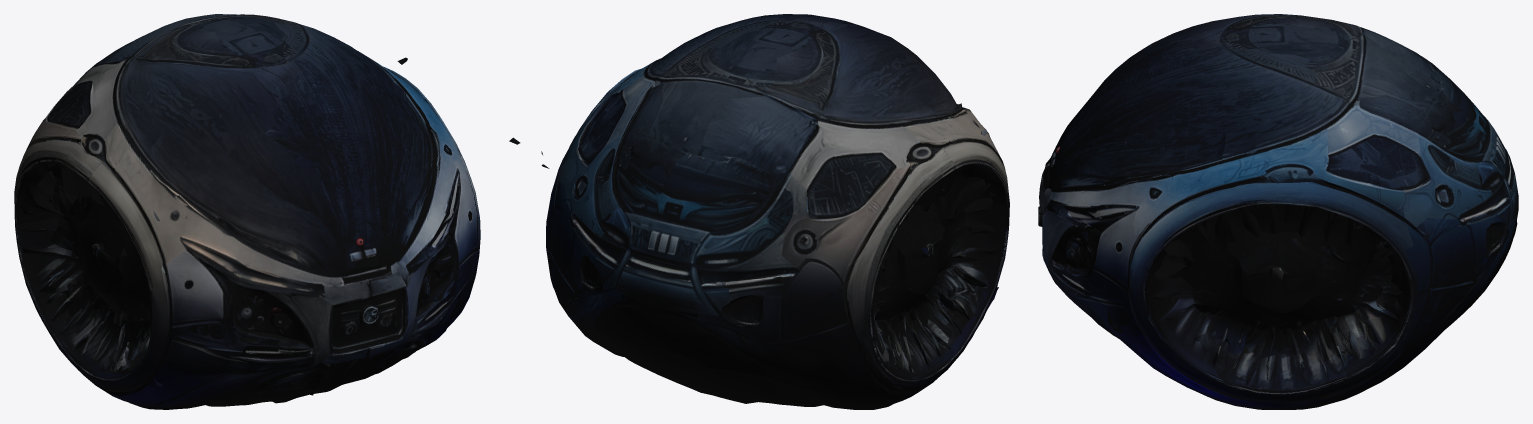
The model's file is Orbvortex.glb.
3 renders of one model, left to right at view 1: azimuth 30°, elevation 25°; view 2: azimuth 150°, elevation 25°; view 3: azimuth 270°, elevation 25°, orthographic. The views are drawn at different scales.
Parts seen in each view (by area): view 1: geometry_0; view 2: geometry_0; view 3: geometry_0.
Boxes of the visible parts, left/top/right/bottom form: geometry_0: left=14, top=14, right=480, bottom=409; geometry_0: left=509, top=14, right=1009, bottom=409; geometry_0: left=1038, top=14, right=1518, bottom=409.
Size of the model in its own units: 1.96 by 1.66 by 2.19.
1 material, 1 textured.
